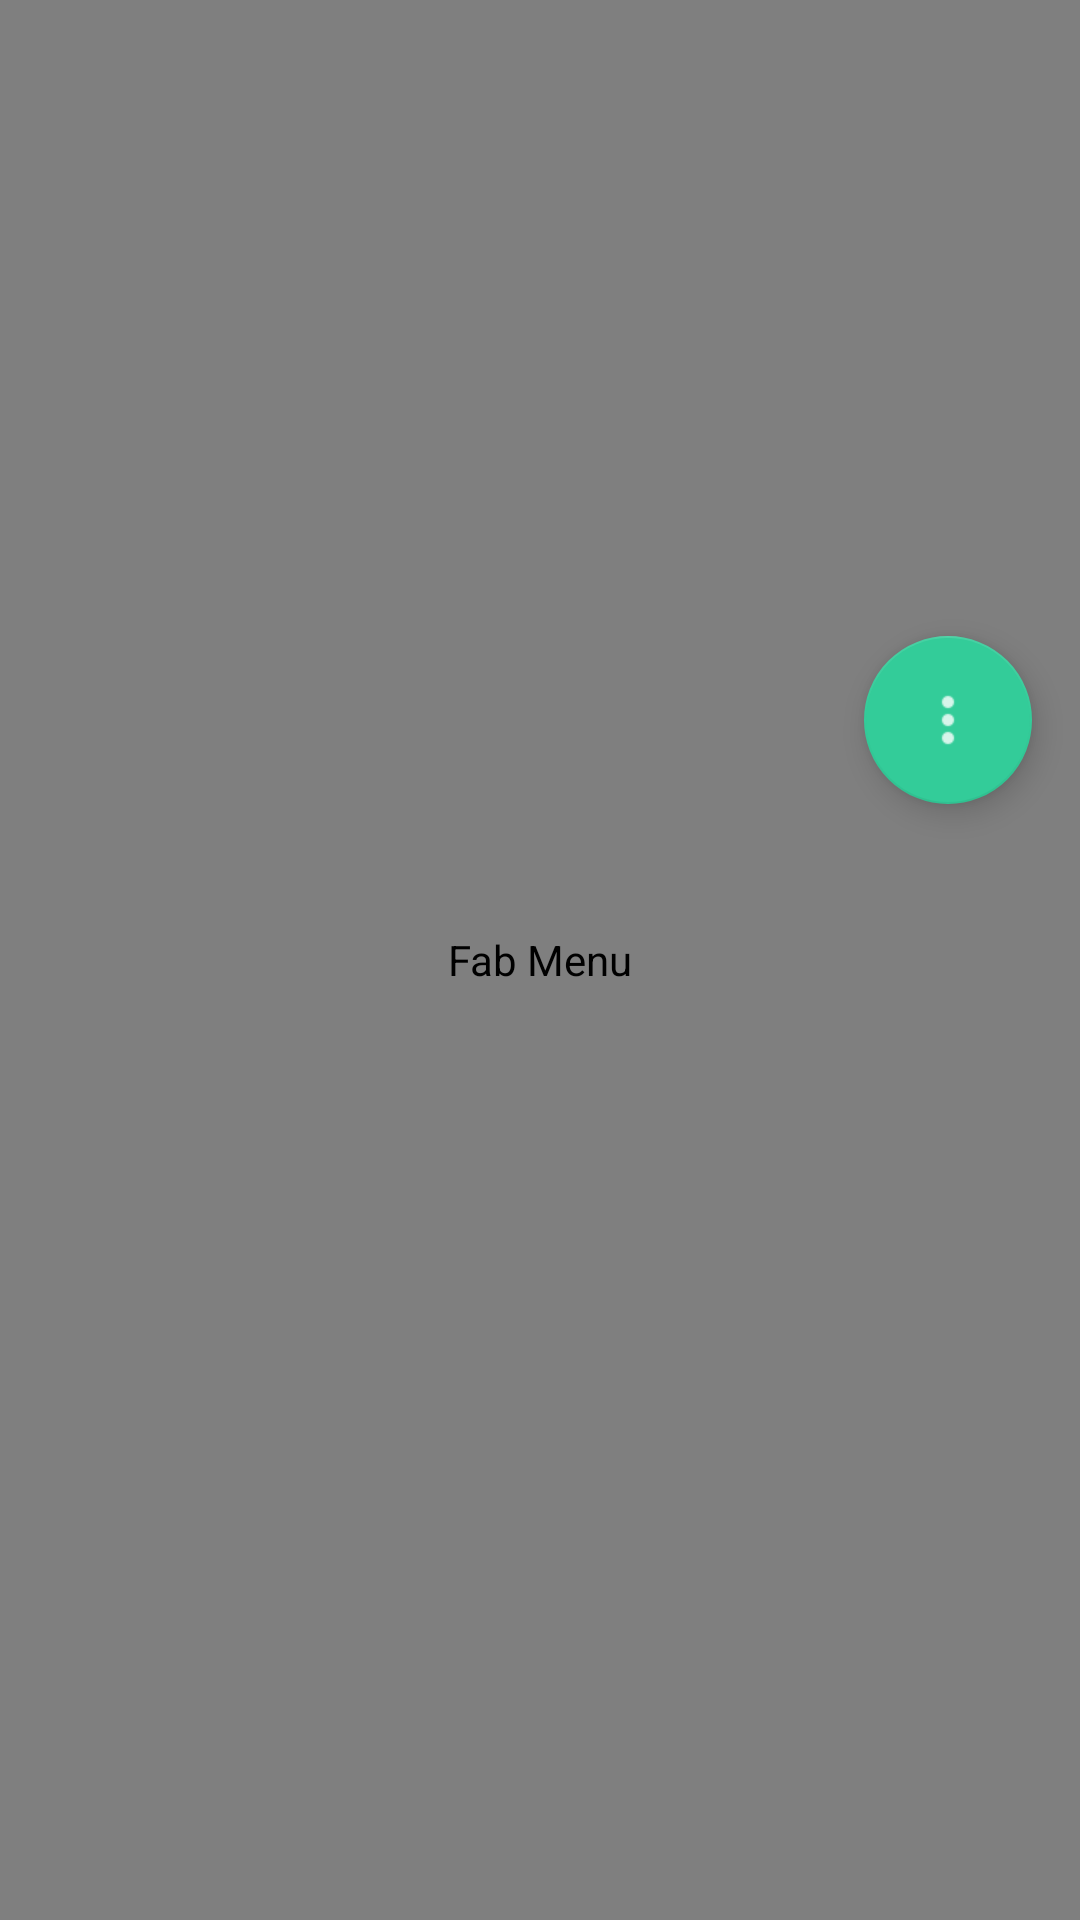

Where to tap for icons on this 1080px×1920px app screen, as point (x, y):
more vertical: point (948, 720)
